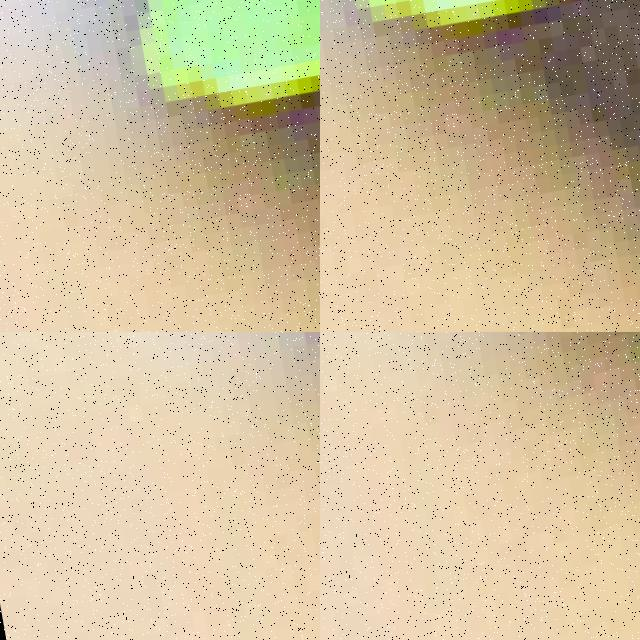drone: (320, 332, 640, 640)
